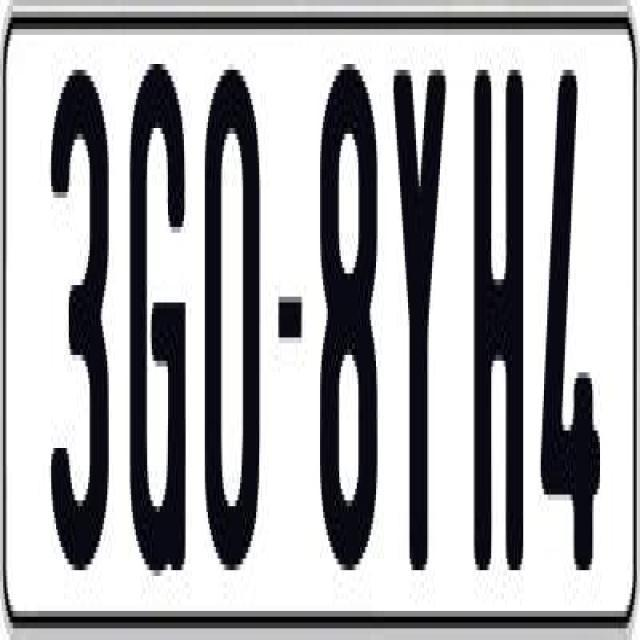0: (200, 52, 261, 558)
3: (46, 58, 110, 594)
4: (540, 64, 604, 594)
8: (315, 52, 379, 594)
G: (128, 46, 189, 558)
H: (470, 70, 520, 576)
Y: (393, 70, 452, 576)
